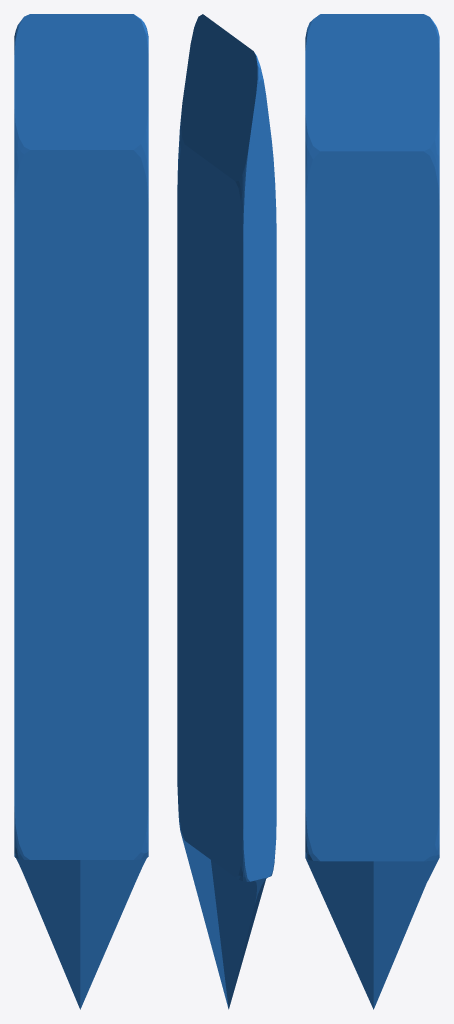
File: Spludger.fbx
3 renders of one model, left to right at view 1: azimuth 90°, elevation 25°; view 2: azimuth 210°, elevation 25°; view 3: azimuth 270°, elevation 25°, orthographic.
Parts seen in each view (by area): view 1: Cube; view 2: Cube; view 3: Cube.
Boxes of the visible parts, bbox=[...] form: Cube: bbox=[14, 14, 148, 1009]; Cube: bbox=[177, 14, 276, 1009]; Cube: bbox=[305, 14, 439, 1009].
Size of the model in its own units: 16.48 by 459 by 56.15.
